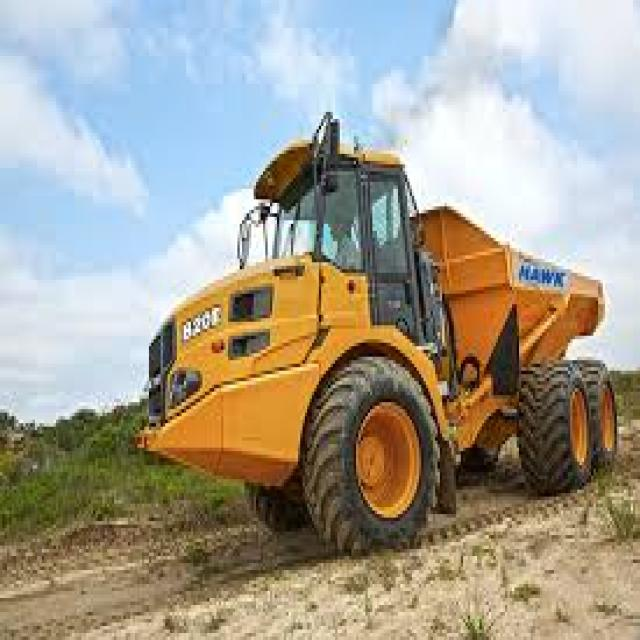dump_truck: (128, 98, 638, 552)
